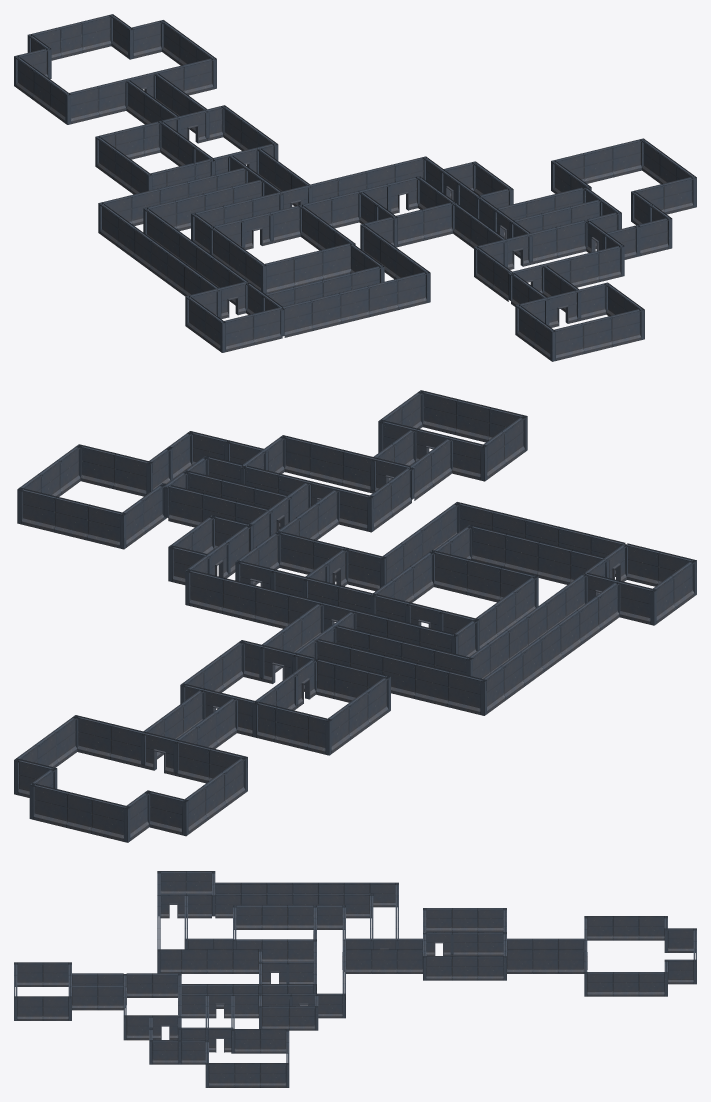
File: Walls.fbx
3 views of the same model, one above another, from view 1: azimuth 30°, elevation 25°; view 2: azimuth 150°, elevation 25°; view 3: azimuth 270°, elevation 25° (orthographic). The views are drawn at different scales.
Visible parts, largest first — view 1: PillerA219, PillerA91, PillerA224, PillerA226, PillerA88, PillerA227, PillerA87, PillerA89, PillerA42, PillerA143, Walls, PillerA10 (+13 smaller); view 2: PillerA219, PillerA224, PillerA91, PillerA88, PillerA227, PillerA226, PillerA89, Walls, PillerA42, PillerA87, PillerA10, PillerA142 (+13 smaller); view 3: PillerA219, PillerA88, PillerA42, PillerA91, PillerA227, PillerA226, PillerA224, PillerA47, PillerA43, PillerA87, PillerA144, PillerA122 (+10 smaller).
Part boxes in pixels (left/top/right/bottom): PillerA219: left=551, top=138, right=696, bottom=259; PillerA91: left=209, top=204, right=355, bottom=293; PillerA224: left=474, top=220, right=624, bottom=301; PillerA226: left=515, top=282, right=644, bottom=361; PillerA88: left=100, top=204, right=247, bottom=305; PillerA227: left=453, top=187, right=621, bottom=258; PillerA87: left=185, top=281, right=284, bottom=352; PillerA89: left=98, top=167, right=262, bottom=234; PillerA42: left=158, top=105, right=278, bottom=175; PillerA143: left=282, top=271, right=430, bottom=337; Walls: left=95, top=121, right=211, bottom=194; PillerA10: left=65, top=57, right=216, bottom=124; PillerA219: left=17, top=431, right=263, bottom=549; PillerA224: left=240, top=435, right=414, bottom=532; PillerA91: left=370, top=550, right=538, bottom=650; PillerA88: left=469, top=574, right=619, bottom=713; PillerA227: left=164, top=455, right=338, bottom=548; PillerA226: left=378, top=390, right=527, bottom=481; PillerA89: left=316, top=625, right=486, bottom=715; Walls: left=257, top=658, right=390, bottom=755; PillerA42: left=180, top=640, right=317, bottom=737; PillerA87: left=583, top=543, right=696, bottom=625; PillerA10: left=73, top=715, right=247, bottom=792; PillerA142: left=434, top=524, right=604, bottom=584; PillerA219: left=149, top=1017, right=289, bottom=1087; PillerA88: left=215, top=882, right=395, bottom=918; PillerA42: left=423, top=932, right=506, bottom=980; PillerA91: left=233, top=905, right=316, bottom=962; PillerA227: left=178, top=984, right=258, bottom=1052; PillerA226: left=14, top=962, right=71, bottom=1020; PillerA224: left=123, top=973, right=181, bottom=1040; PillerA47: left=342, top=938, right=422, bottom=973; PillerA43: left=507, top=938, right=584, bottom=973; PillerA87: left=157, top=871, right=215, bottom=918; PillerA144: left=160, top=949, right=261, bottom=973; PillerA122: left=259, top=993, right=318, bottom=1030.
Size of the model in its own units: 8876 by 500 by 13253.
